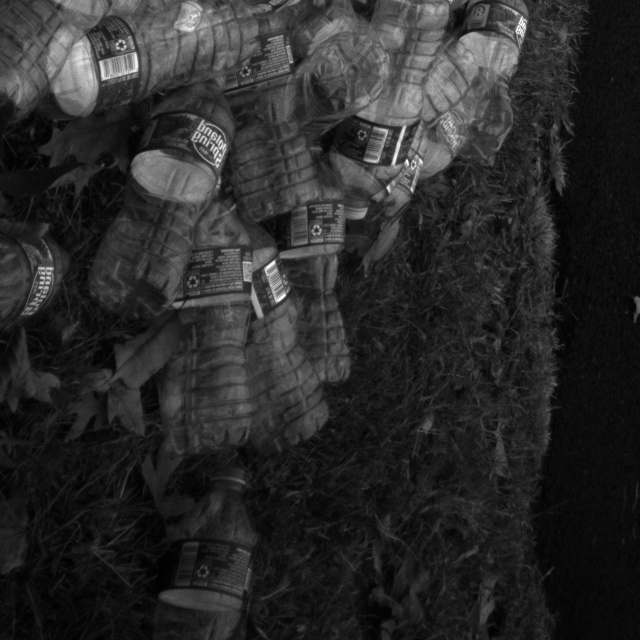bottle: (84, 75, 242, 330), (320, 0, 456, 219), (13, 0, 248, 125), (161, 191, 262, 461), (0, 0, 157, 130), (265, 181, 358, 395), (248, 237, 332, 451), (438, 0, 538, 159)
